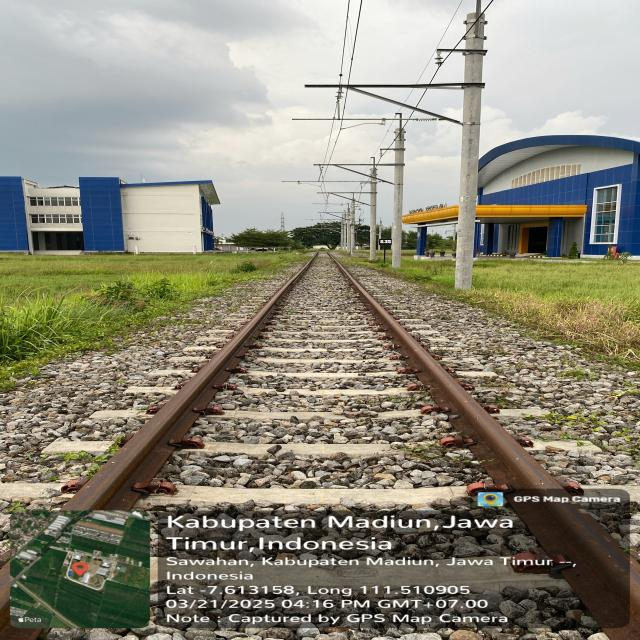rail-detection: (328, 252, 640, 640), (62, 251, 318, 510)
